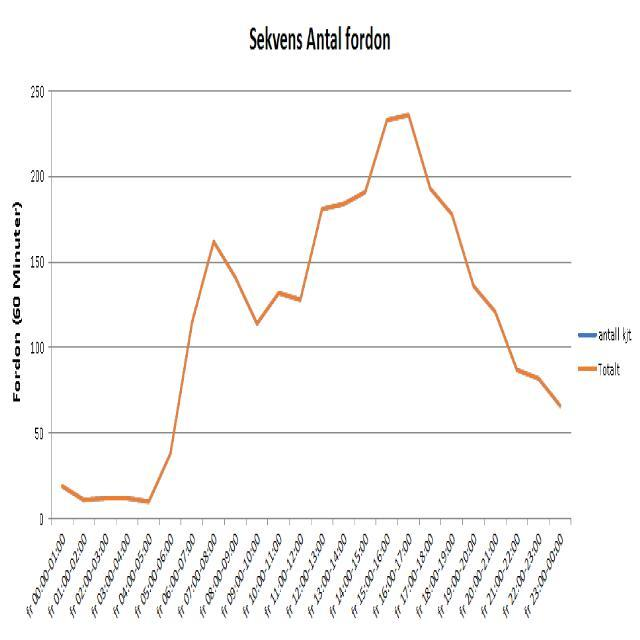axis: (45, 513, 582, 529), (44, 71, 59, 534)
line: (56, 107, 566, 506)
